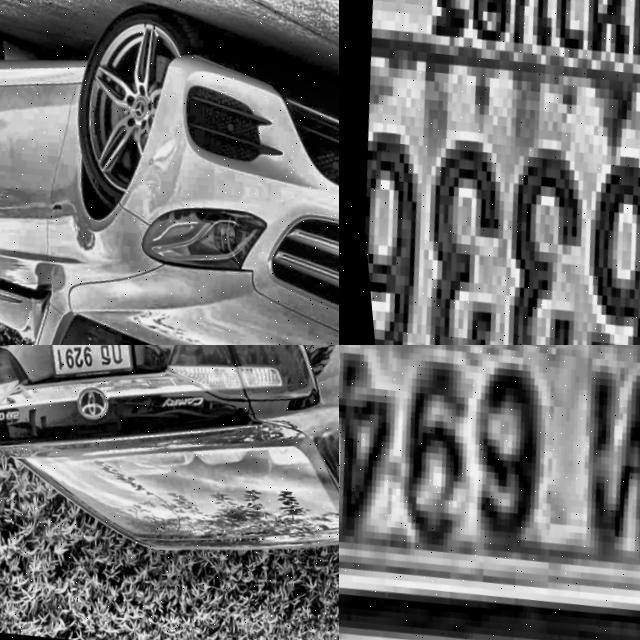license-plate: (339, 0, 640, 345), (339, 345, 640, 640), (33, 345, 138, 390)
